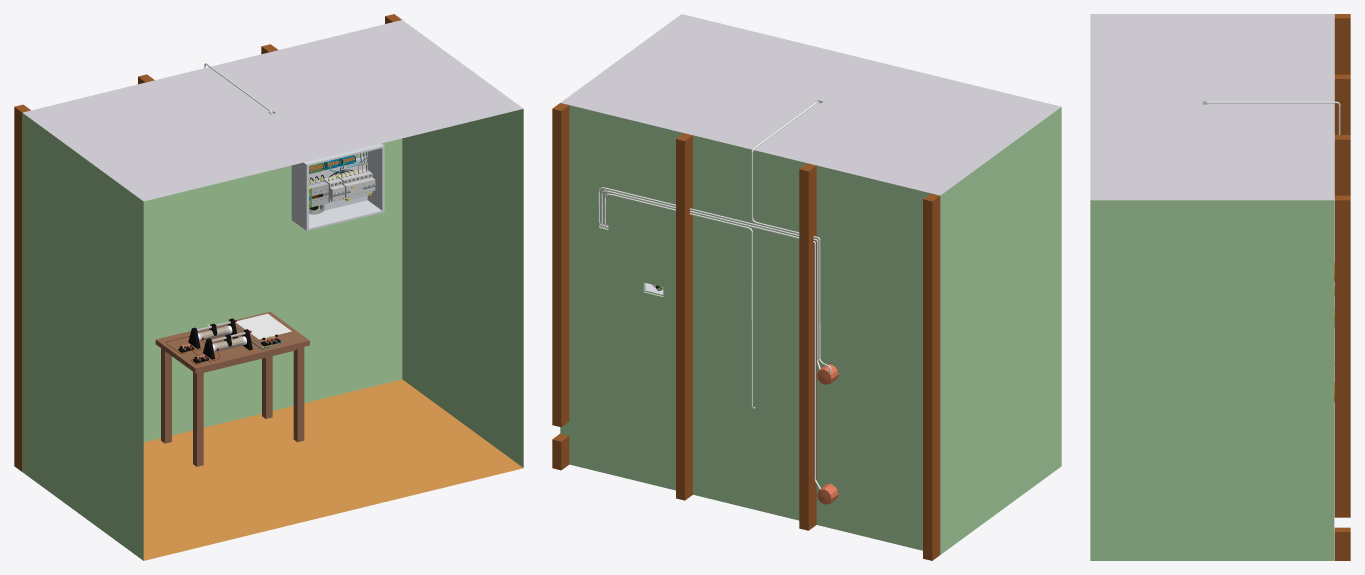
3 views of the same model, side by side, from view 1: azimuth 30°, elevation 25°; view 2: azimuth 150°, elevation 25°; view 3: azimuth 270°, elevation 25° (orthographic).
Parts seen in each view (by area): view 1: room, roof, table, shield, framing, schematics, rheostat.001, rheostat.002; view 2: room, roof, framing, xpjtsocket, xpjswitch, xpjlight, xpjdevice; view 3: room, roof, framing, xpjlight.
Boxes of the visible parts, box(x1,y1,x2,y2) form: room: box(22, 109, 523, 560); roof: box(23, 20, 523, 201); table: box(155, 311, 309, 466); shield: box(291, 143, 384, 230); framing: box(14, 14, 401, 471); schematics: box(235, 313, 291, 339); rheostat.001: box(203, 329, 252, 359); rheostat.002: box(188, 318, 237, 348); room: box(560, 103, 1061, 554); roof: box(560, 14, 1061, 195); framing: box(552, 103, 940, 560); xpjtsocket: box(601, 190, 820, 489); xpjswitch: box(598, 187, 820, 369); xpjlight: box(751, 101, 831, 373); xpjdevice: box(604, 193, 755, 408); room: box(1090, 200, 1334, 560); roof: box(1090, 14, 1334, 200); framing: box(1334, 14, 1350, 560); xpjlight: box(1205, 101, 1340, 134).
Size of the model in its own units: 16.6 by 15.13 by 9.8.
